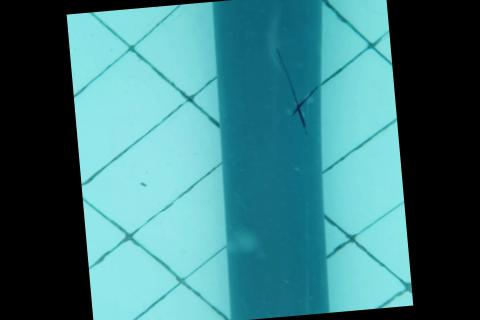keretakan: (272, 42, 322, 135)
